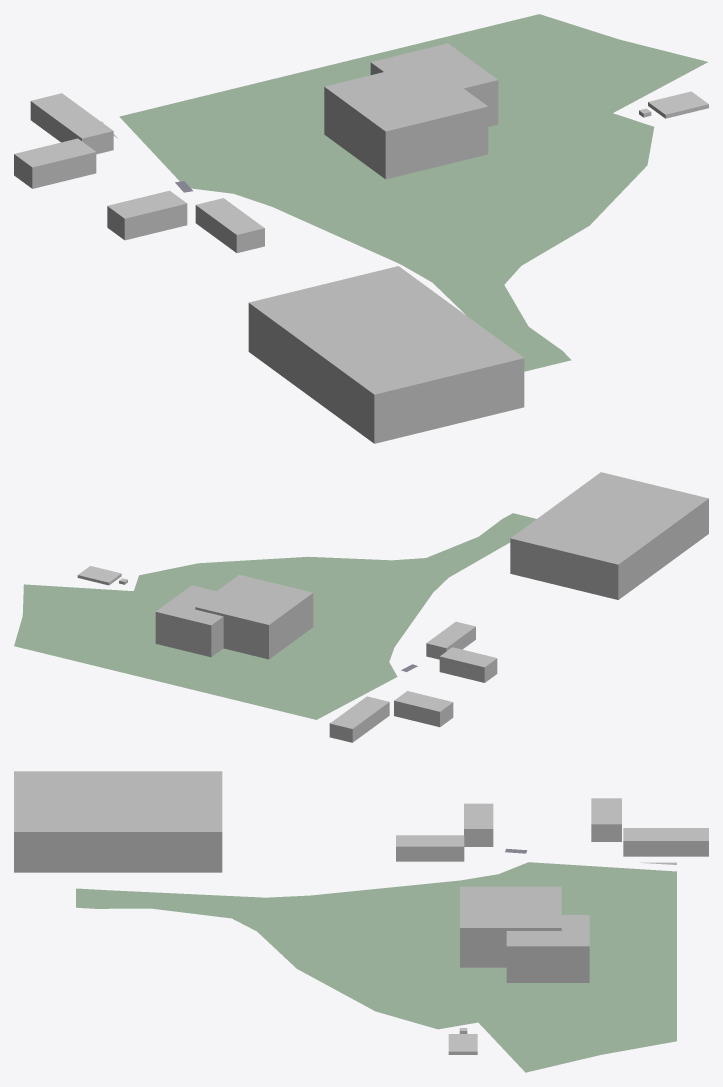
Rendered from 95_105_mid.glb.
3 views of the same model, one above another, from view 1: azimuth 30°, elevation 25°; view 2: azimuth 150°, elevation 25°; view 3: azimuth 270°, elevation 25° (orthographic). The views are drawn at different scales.
Size of the model in its own units: 512 by 38.9 by 578.
